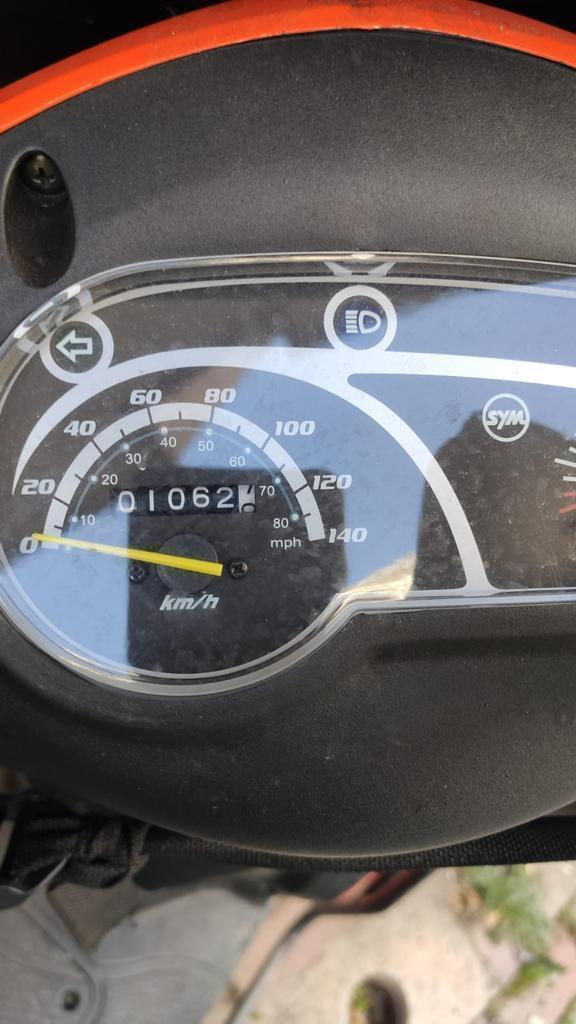0: (166, 485, 186, 510), (116, 489, 135, 514)
1: (144, 485, 158, 513)
2: (215, 485, 235, 509)
6: (191, 485, 211, 509)
7: (240, 482, 255, 496)
8: (239, 501, 257, 516)
odometer: (105, 479, 260, 522)
